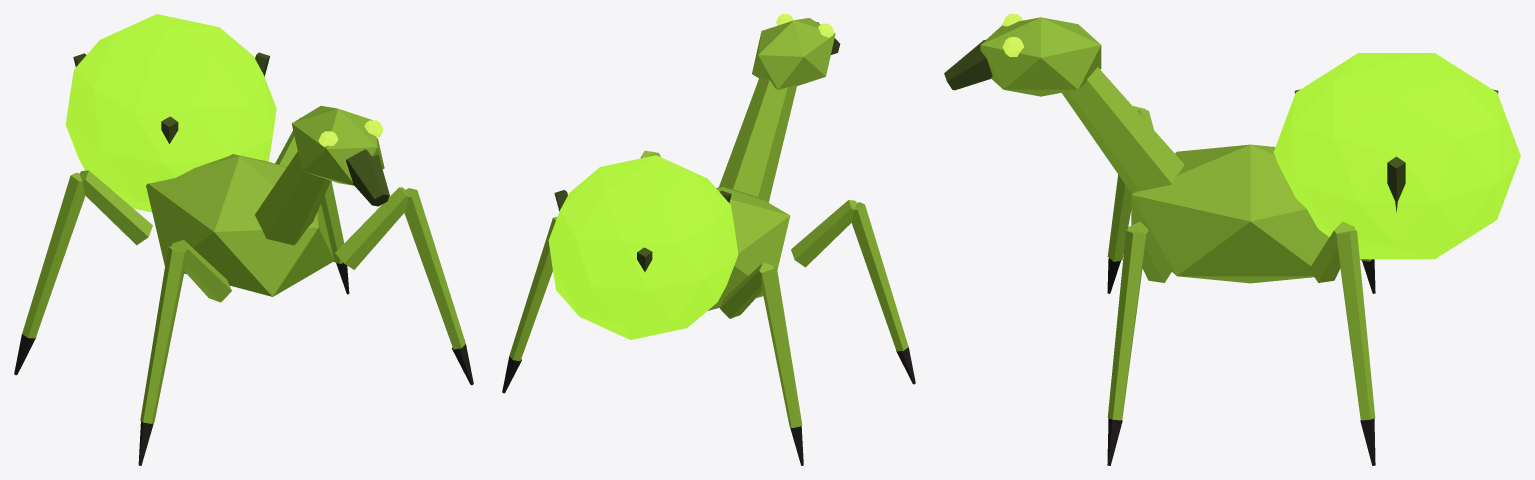
Rendered from exo-spitter.glb.
3 renders of one model, left to right at view 1: azimuth 30°, elevation 25°; view 2: azimuth 150°, elevation 25°; view 3: azimuth 270°, elevation 25°, orthographic. The views are drawn at different scales.
Parts seen in each view (by area): view 1: body; view 2: body; view 3: body.
Part boxes in pixels (<box>): body: <box>14,14,473,465</box>; body: <box>502,14,915,465</box>; body: <box>944,14,1520,465</box>.
Bounding box in the file's own units: 2.26 × 2.19 × 3.16.
